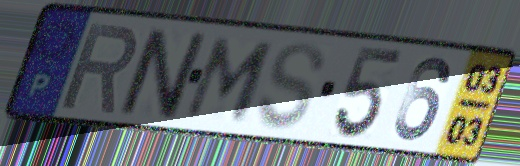5: (331, 42, 407, 142)
6: (393, 54, 452, 144)
M: (180, 34, 280, 124)
N: (115, 24, 210, 123)
R: (56, 19, 142, 116)
S: (253, 39, 328, 134)
